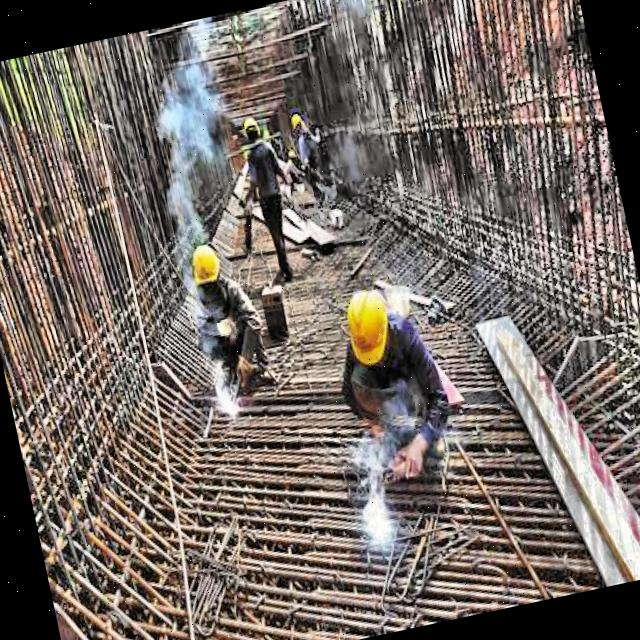helmet: (336, 282, 398, 368), (182, 235, 232, 301), (239, 112, 265, 150)
